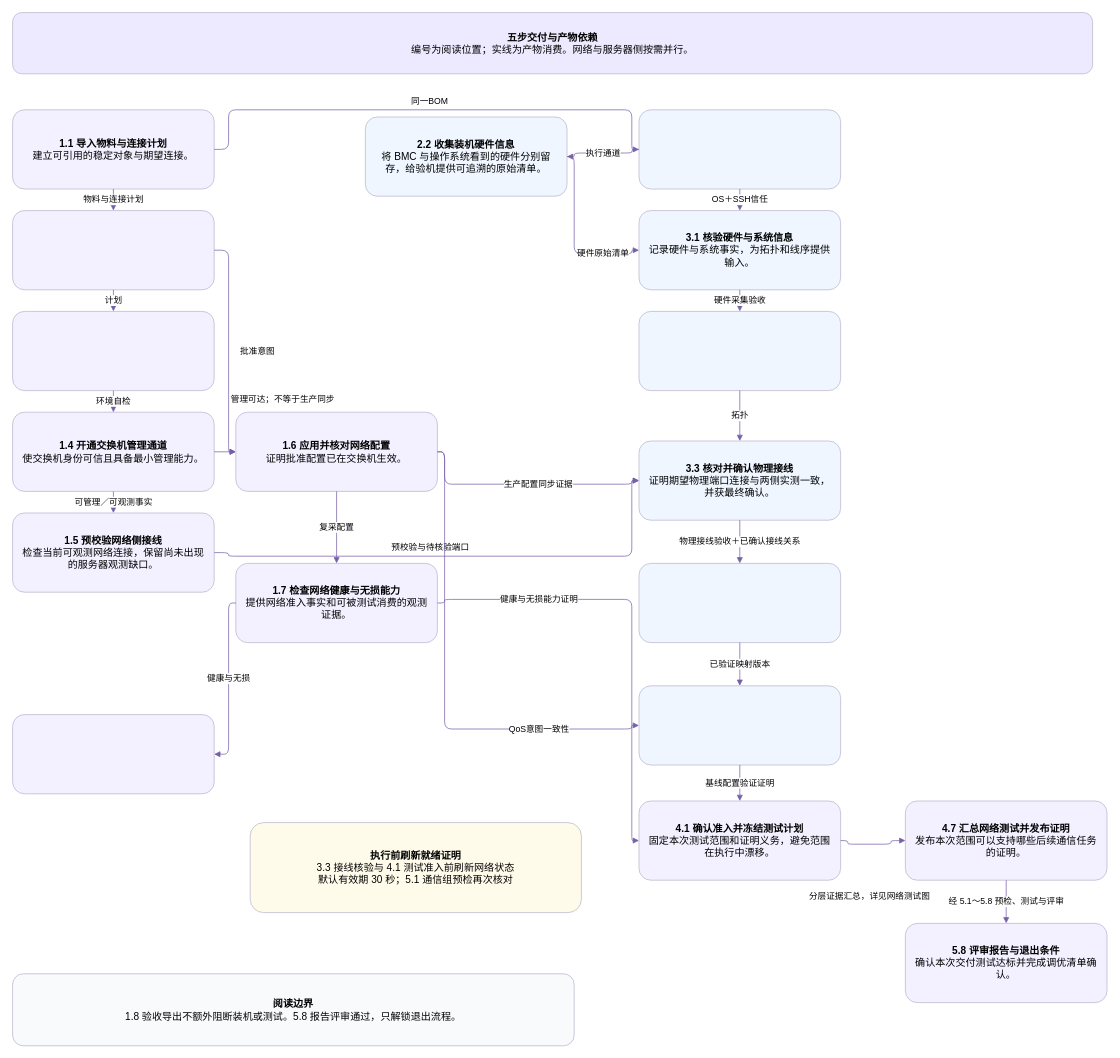
This 1120x1058 diagram has some shape labels left out. Here are the shapes that lost their labels. From the top down, the centre of each, then its label:
the point at 739,149: 2.1 安装系统并建立 SSH 互信 把裸机变成身份已确认、可执行采集的服务器。
the point at 113,250: 1.2 制定网络实施计划 把已经商定的网络方案转换成可执行批次和配置输入。
the point at 113,351: 1.3 检查开通环境 证明引导、采集和分发依赖可用。
the point at 739,351: 3.2 验证机内 GPU–NIC 拓扑 证明GPU-NIC内部关系符合独立预期。
the point at 739,603: 3.4 发布已验证映射 发布所有后续配置和定位使用的同一映射版本。
the point at 739,725: 3.5 应用并验证服务器基线配置 把确认后的关系转换为真实服务器配置并验证。
the point at 113,754: 1.8 验收并导出网络交付包 生成可核对的网络交付证据包。
